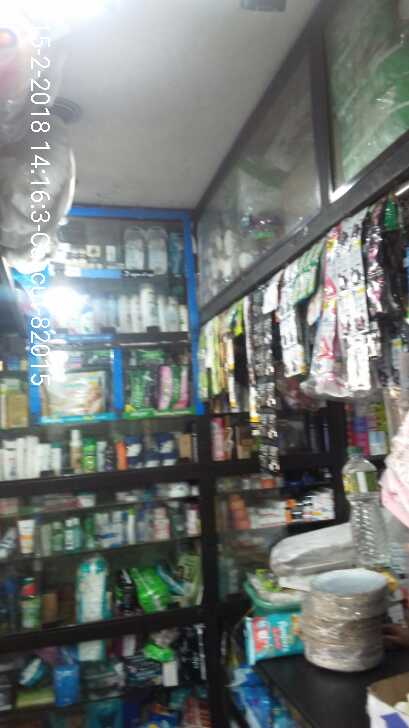venus: (146, 224, 168, 273), (168, 231, 188, 273), (128, 224, 146, 270)
